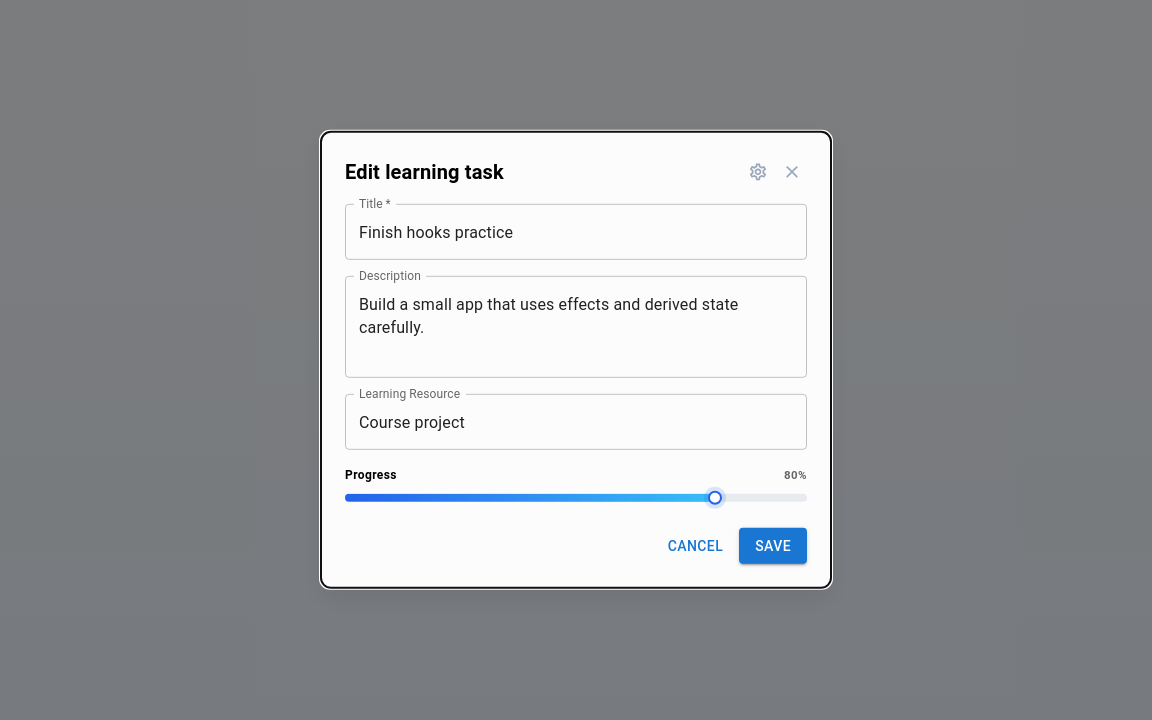
Test: LearningTaskModal › deletes the task from the modal confirmation dialog and closes the modal
Click the button named "task actions for finish hooks practice".
click(758, 172)  # box [743, 157, 773, 187]
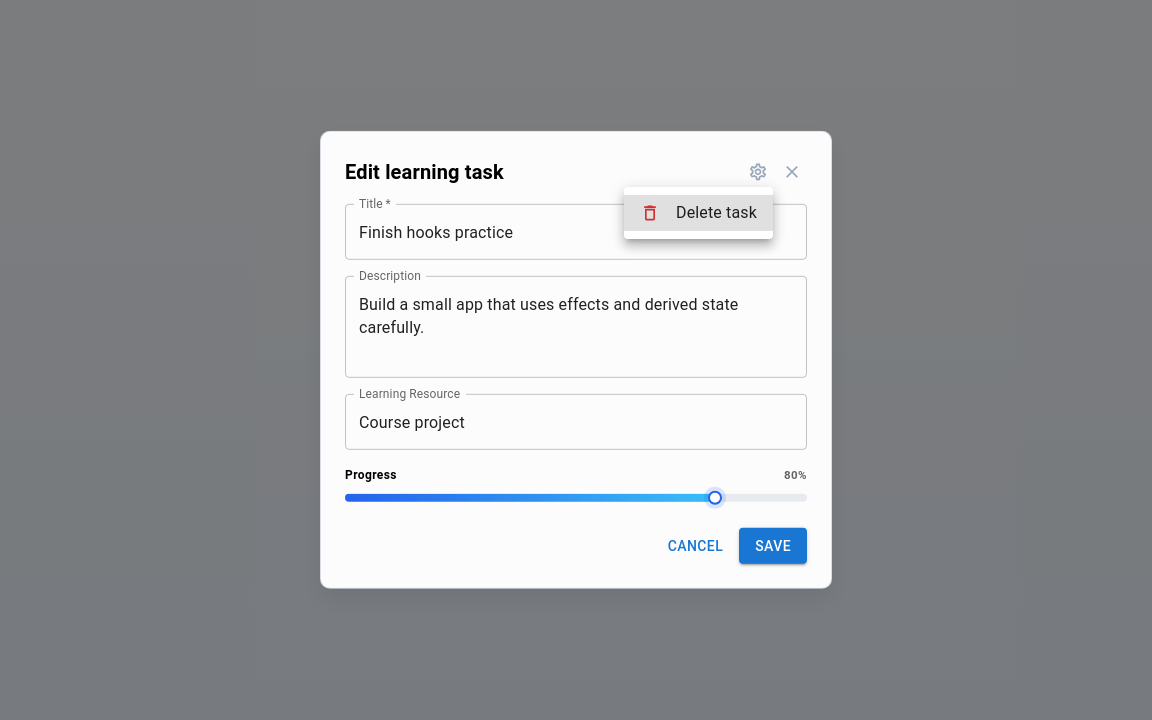
Click the menu item "Delete task".
click(698, 213)  # box [624, 195, 773, 231]
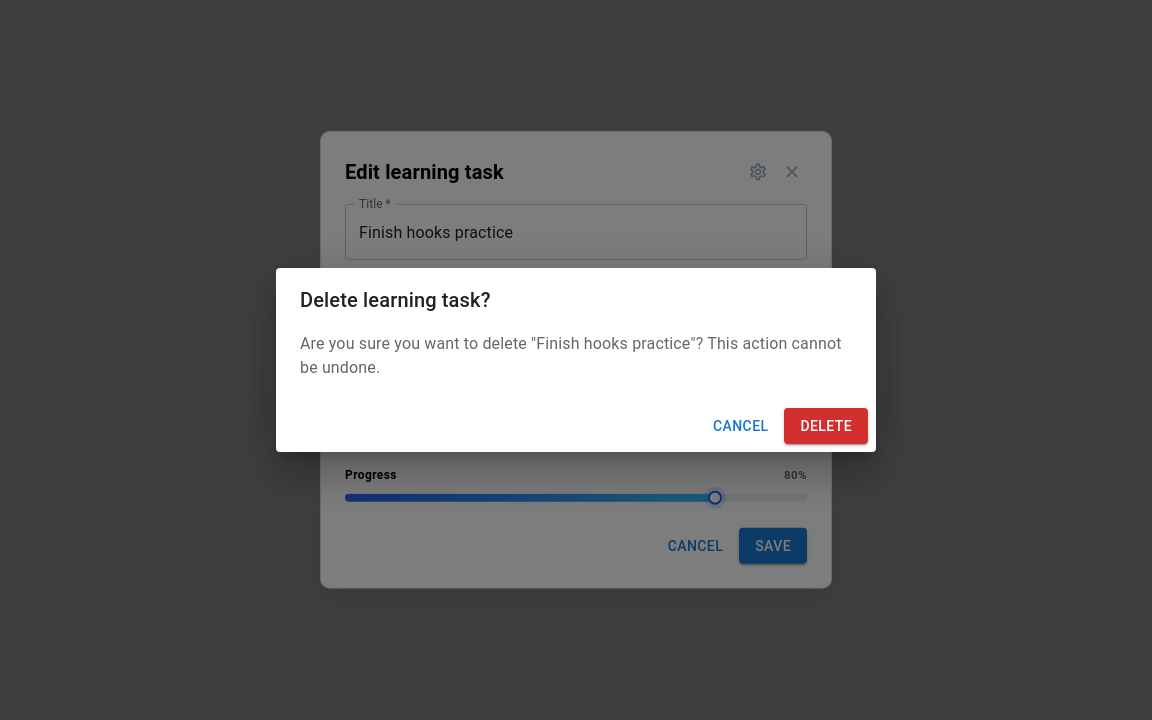
Click the button "Delete".
click(826, 426)  # box [784, 408, 868, 444]
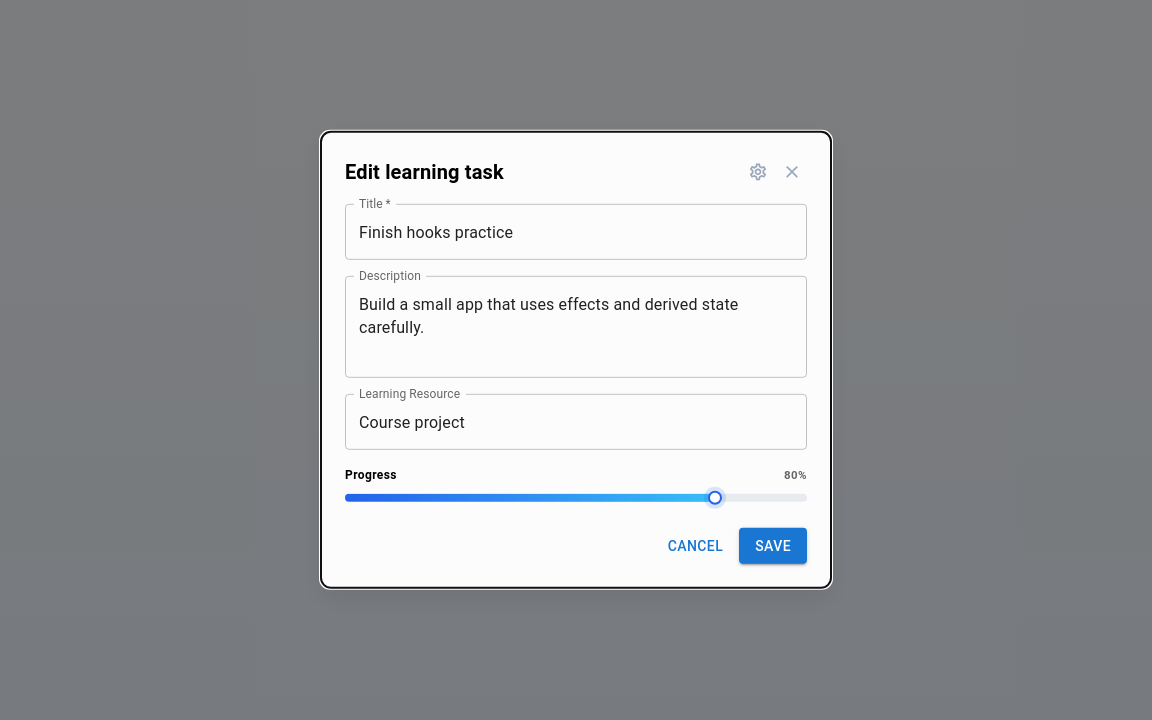
Result: the heading "Delete learning task?" is gone
